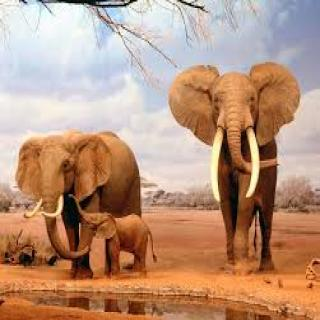Elephant: (166, 59, 302, 279), (15, 126, 160, 285), (70, 189, 159, 277)
